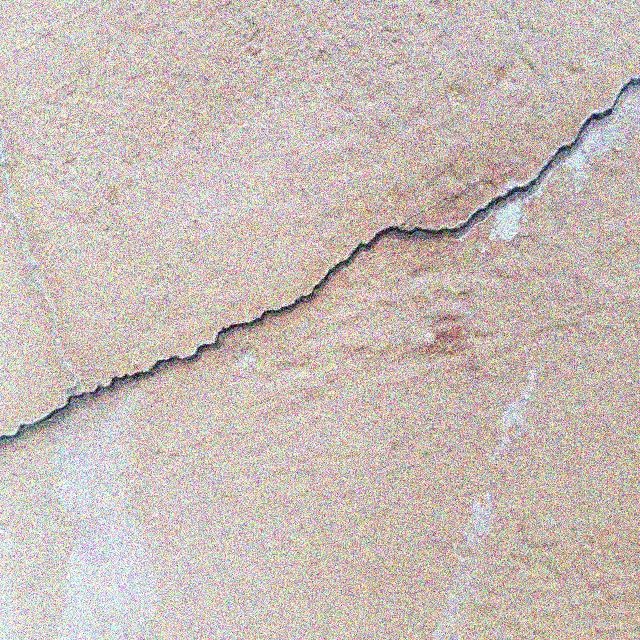SurfaceCrack: (1, 3, 640, 497)
